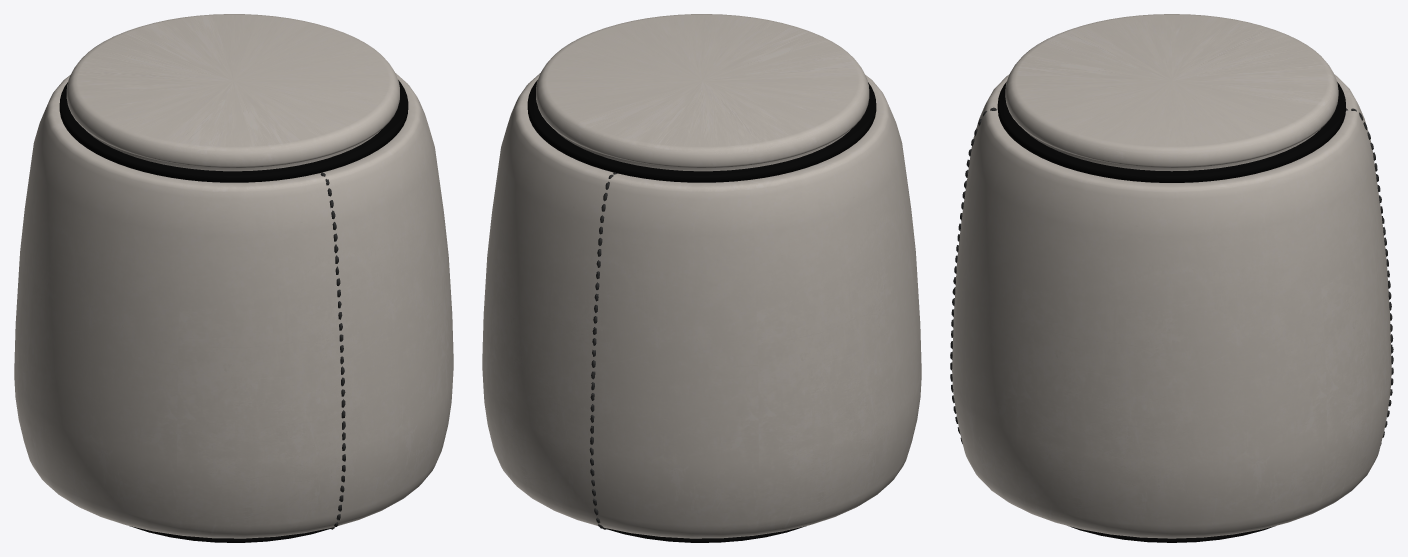
3 views of the same model, side by side, from view 1: azimuth 30°, elevation 25°; view 2: azimuth 150°, elevation 25°; view 3: azimuth 270°, elevation 25° (orthographic).
Visible parts, largest first — view 1: XD-圆凳; view 2: XD-圆凳; view 3: XD-圆凳.
Boxes of the visible parts, left/top/right/bottom form: XD-圆凳: left=14, top=14, right=453, bottom=542; XD-圆凳: left=482, top=14, right=921, bottom=542; XD-圆凳: left=950, top=14, right=1393, bottom=542.
Size of the model in its own units: 0.4684 by 0.4725 by 0.4655.
